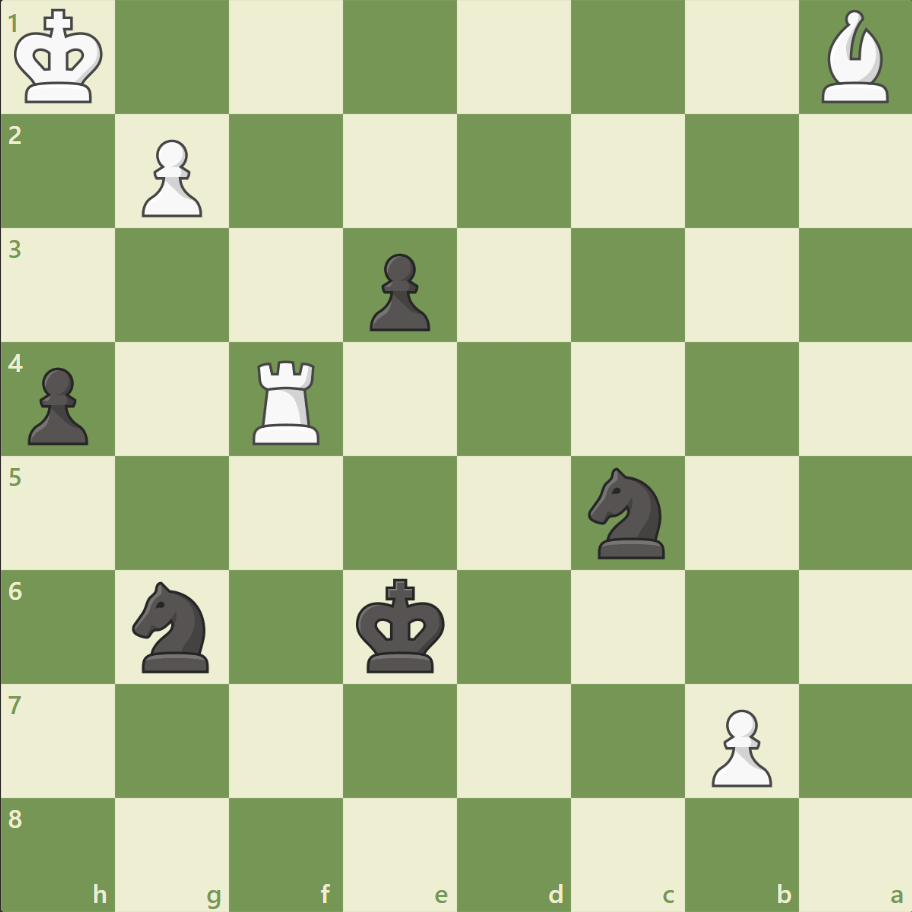B: (812, 6, 896, 109)
K: (11, 4, 111, 112)
P: (701, 700, 776, 791), (133, 132, 208, 223)
R: (246, 352, 329, 449)
k: (351, 571, 451, 679)
n: (124, 575, 222, 677), (579, 461, 676, 564)
p: (20, 359, 95, 450), (361, 246, 435, 337)
